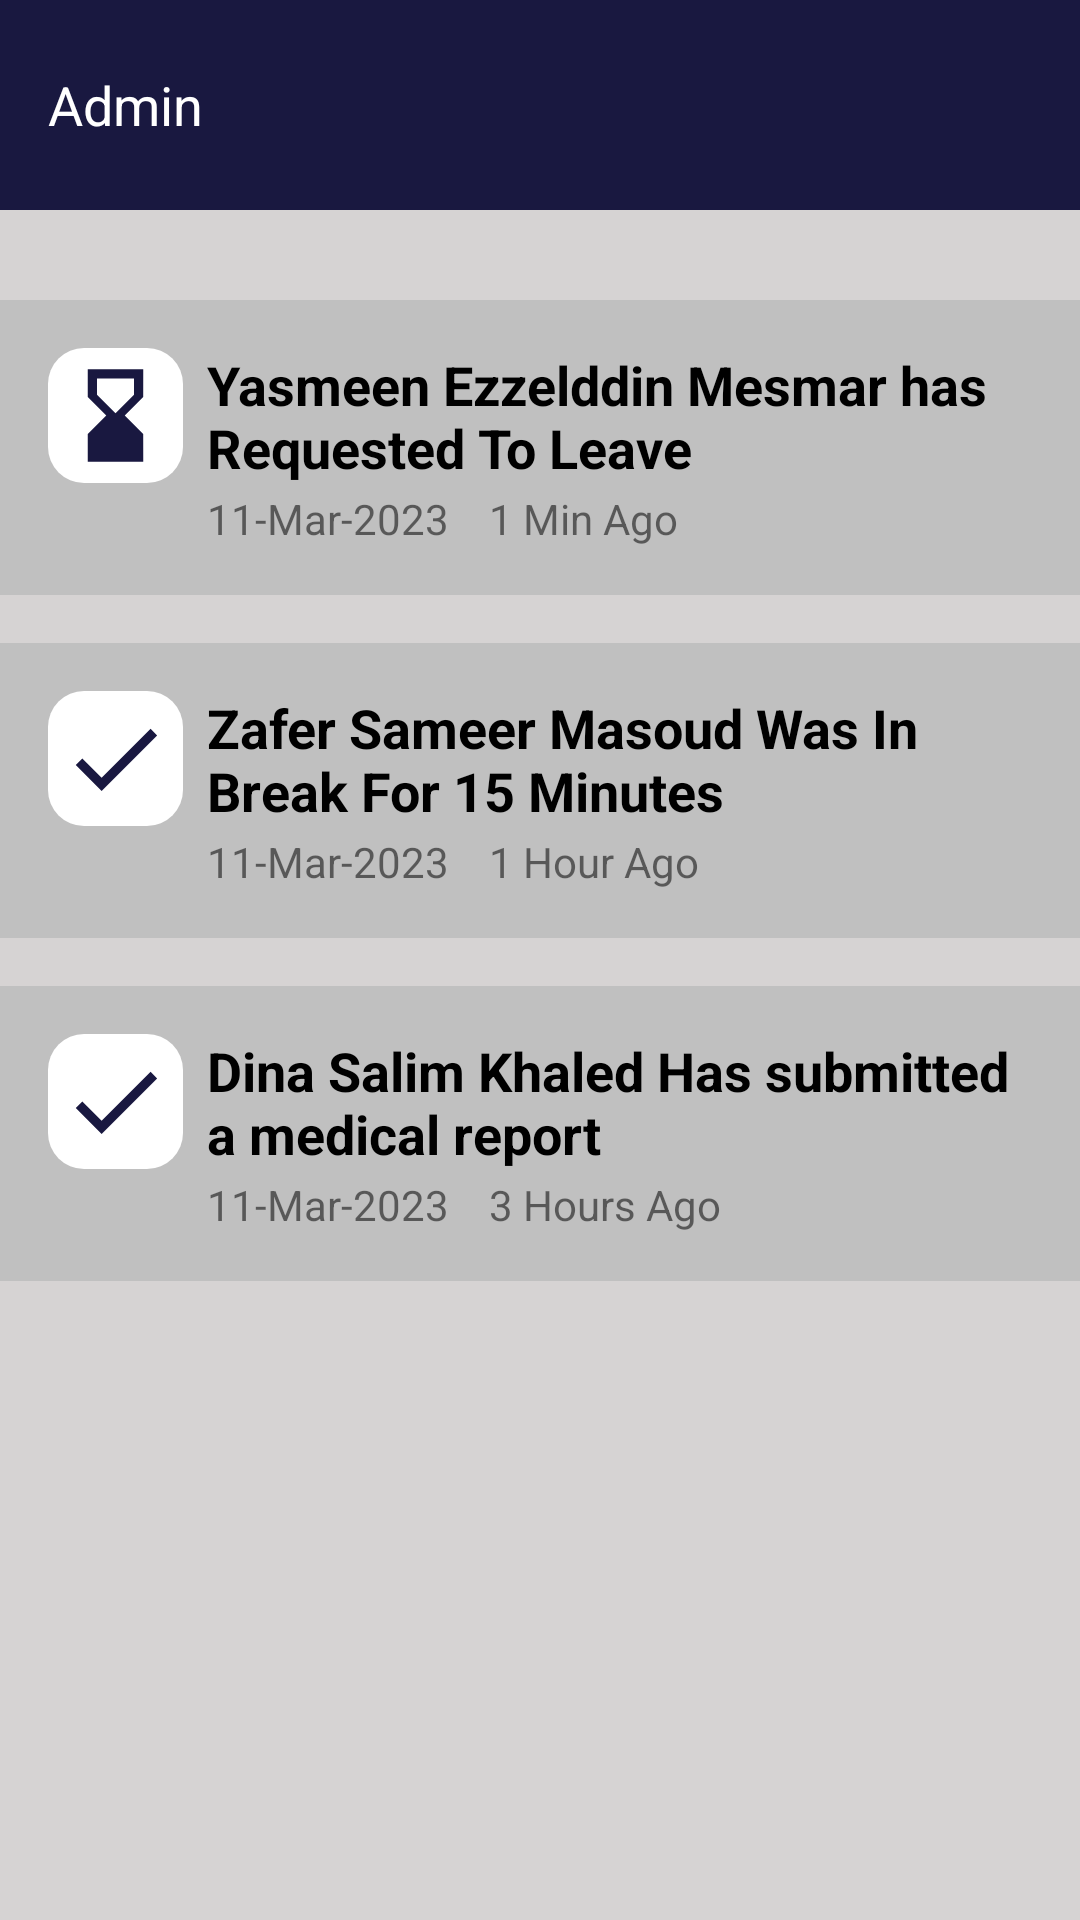

Named icons in this screenshot (1080px×1920px) and their centers, (x,y):
check: (115,758), (115,1101)
hourglass bottom: (115,415)
